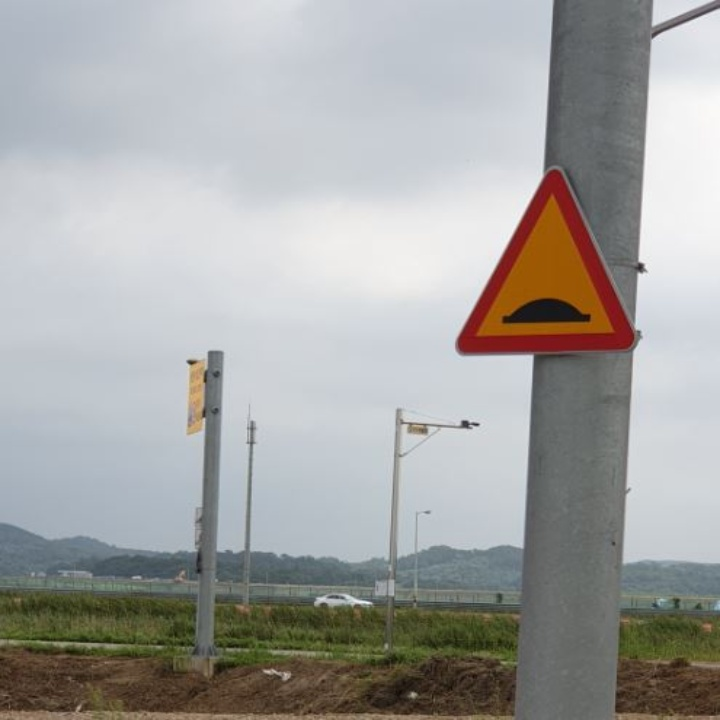bump: (457, 167, 637, 357)
